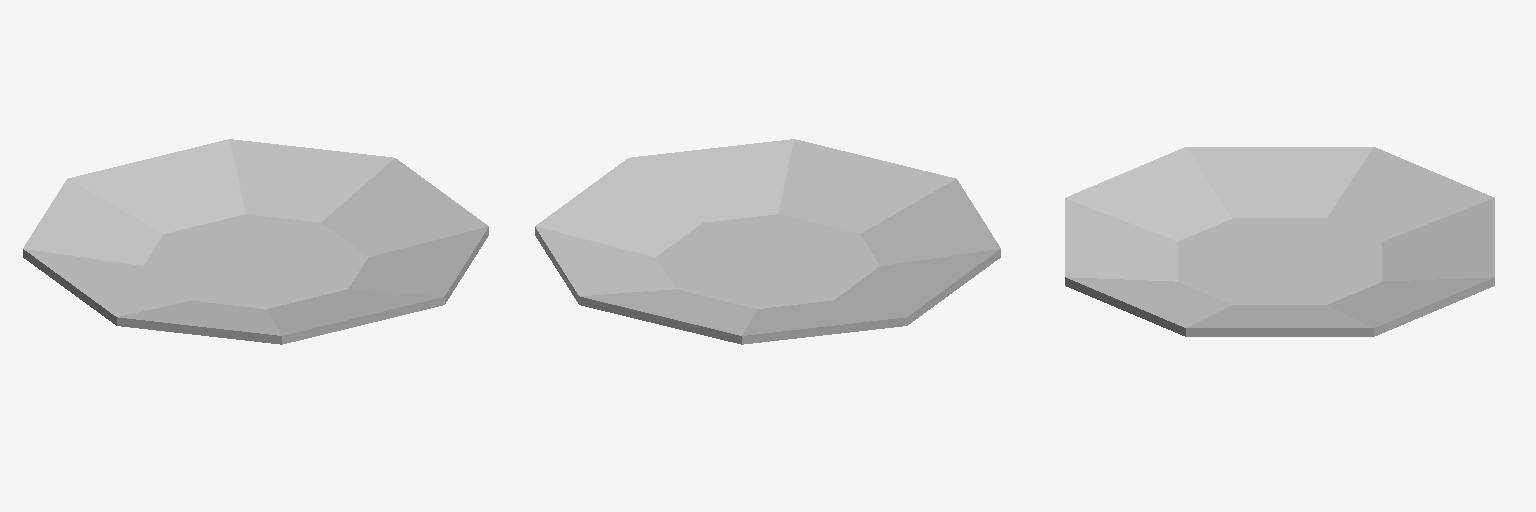
Rendered from cup1.obj.
The picture shows the model from 3 angles: view 1: azimuth 30°, elevation 25°; view 2: azimuth 150°, elevation 25°; view 3: azimuth 270°, elevation 25°; orthographic projection.
Visible parts, largest first — view 1: Cube.014; view 2: Cube.014; view 3: Cube.014.
Boxes of the visible parts, x1,y1,x2,y2 form: Cube.014: [23, 139, 488, 344]; Cube.014: [535, 139, 1000, 344]; Cube.014: [1065, 147, 1494, 336].
Bounding box in the file's own units: 1.46 × 0.1387 × 1.46.